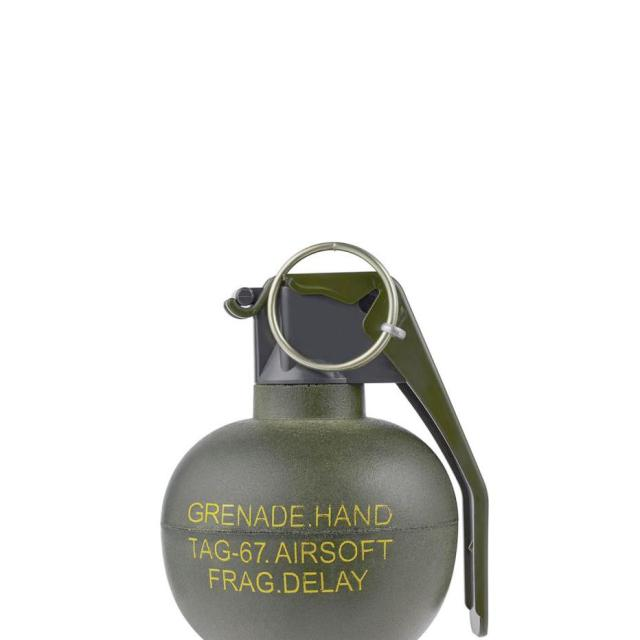grenade: (162, 242, 492, 640)
